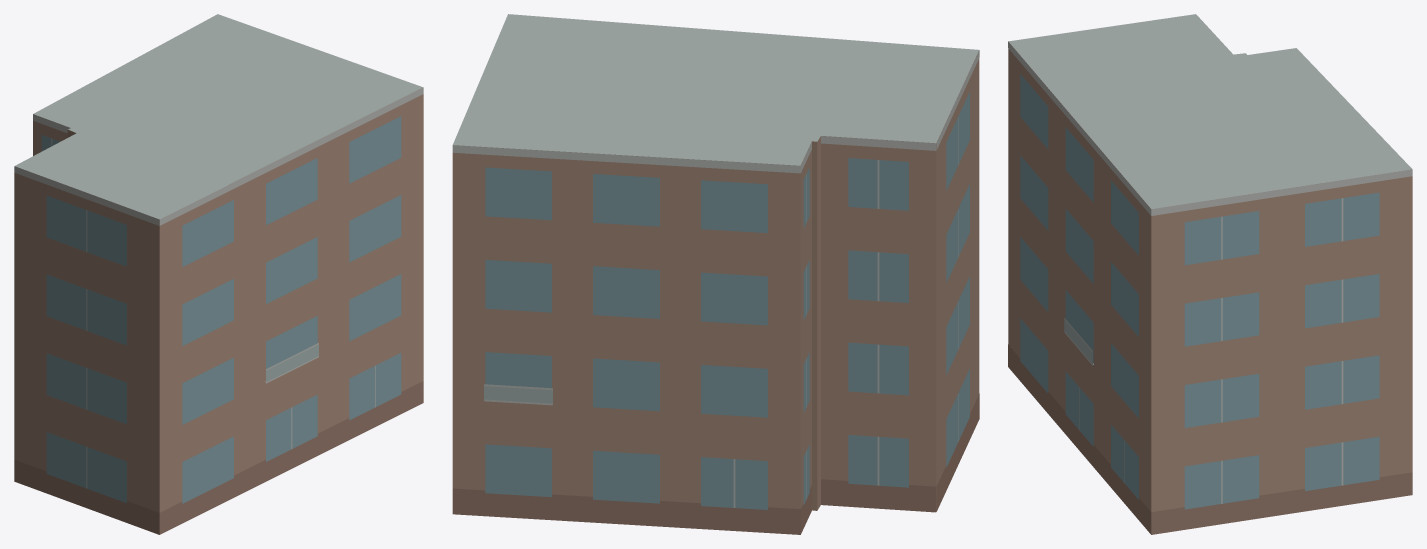
The model's file is survey-upis-32997221.glb.
The picture shows the model from 3 angles, left to right: view 1: azimuth 30°, elevation 25°; view 2: azimuth 150°, elevation 25°; view 3: azimuth 270°, elevation 25°; orthographic projection. The views are drawn at different scales.
Visible parts, largest first — view 1: survey-upis-32997221.tmp; view 2: survey-upis-32997221.tmp; view 3: survey-upis-32997221.tmp.
Boxes of the visible parts, bbox=[...] form: survey-upis-32997221.tmp: bbox=[14, 14, 423, 534]; survey-upis-32997221.tmp: bbox=[452, 14, 979, 534]; survey-upis-32997221.tmp: bbox=[1008, 14, 1412, 534].
Bounding box in the file's own units: 15.06 × 11.7 × 13.18.
